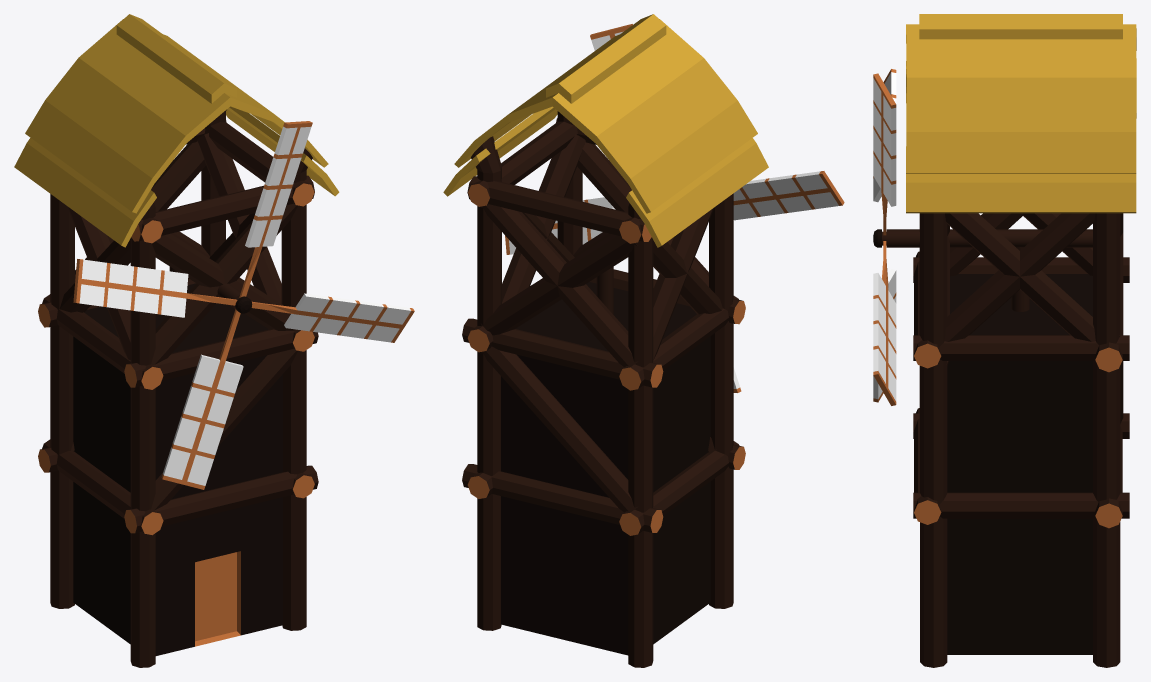
The model's file is Moulin.fbx.
3 renders of one model, left to right at view 1: azimuth 30°, elevation 25°; view 2: azimuth 150°, elevation 25°; view 3: azimuth 270°, elevation 25°, orthographic. The views are drawn at different scales.
Parts seen in each view (by area): view 1: Moulin, MoulinElice; view 2: Moulin, MoulinElice; view 3: Moulin, MoulinElice.
Boxes of the visible parts, box(x1,y1,x2,y2) form: Moulin: box(14, 14, 339, 667); MoulinElice: box(73, 121, 414, 489); Moulin: box(443, 14, 768, 667); MoulinElice: box(505, 24, 844, 392); Moulin: box(906, 14, 1136, 667); MoulinElice: box(873, 69, 1092, 405).
Bounding box in the file's own units: 196 × 313 × 123.
